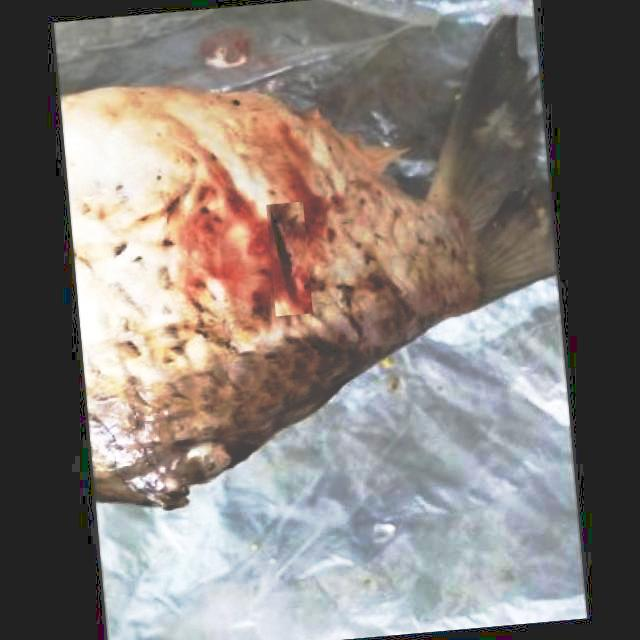Aeromonas Septicemia: (60, 14, 553, 512)
